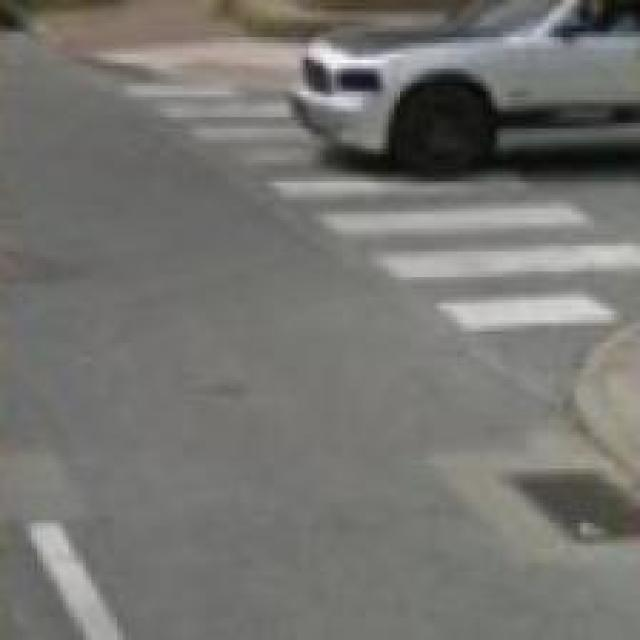walk-crossing: (116, 47, 624, 353)
